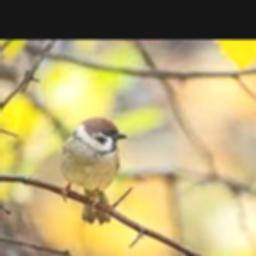Sparrow: (61, 119, 126, 222)
